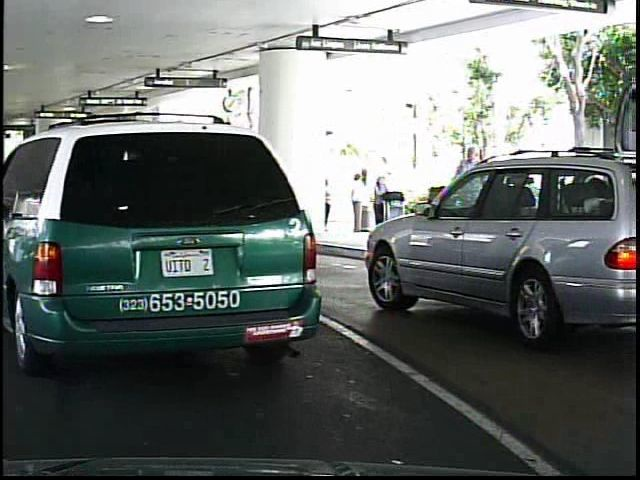person: (446, 140, 491, 268), (366, 170, 396, 240)
